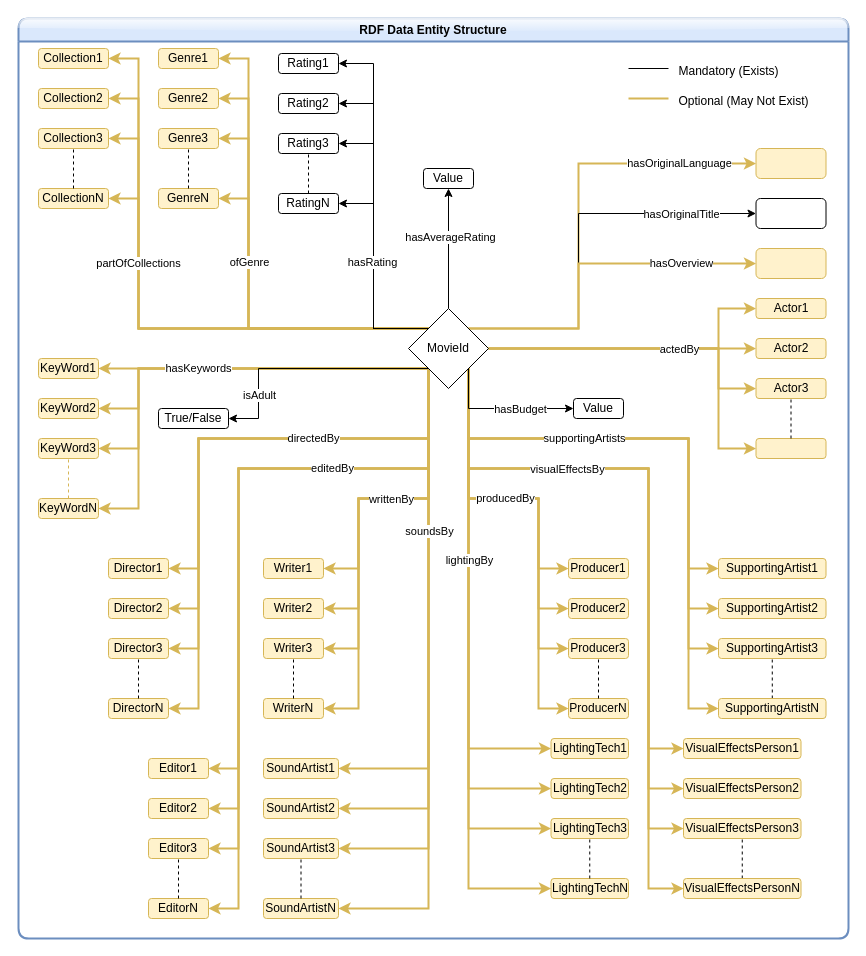
Some shapes in this 866 by 956 pixel diagram are drawn without their labels. Here are the shapes that lost their labels. From the top down, the centre of each, then its label:
[790,163]: Language
[790,213]: Title
[790,263]: Overview
[790,448]: ActorN
